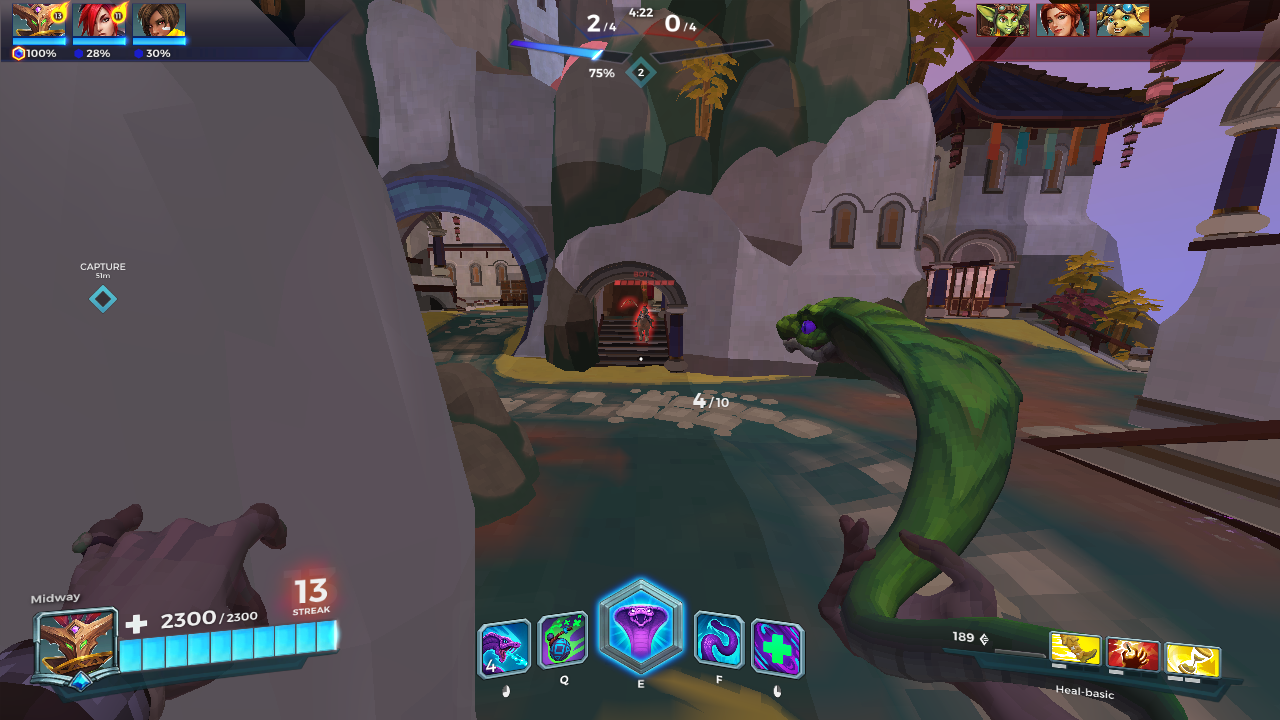model: (629, 301, 658, 336)
